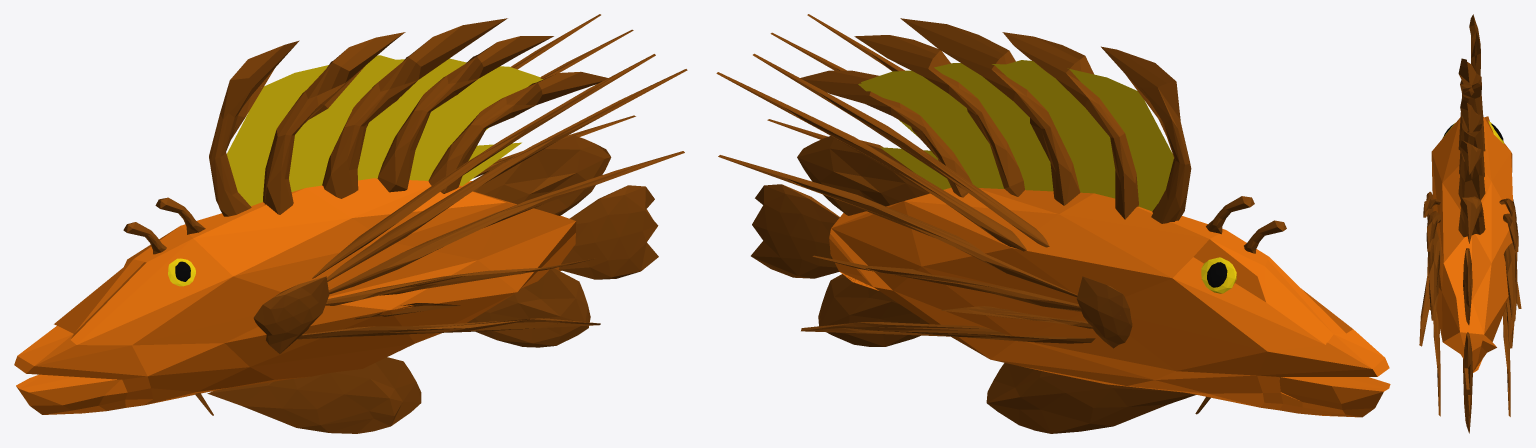
The model's file is Lionfish.fbx.
The picture shows the model from 3 angles, left to right: view 1: azimuth 30°, elevation 25°; view 2: azimuth 150°, elevation 25°; view 3: azimuth 270°, elevation 25°; orthographic projection. The views are drawn at different scales.
Parts seen in each view (by area): view 1: Icosphere, Icosphere.011, Icosphere.031, Icosphere.003, Icosphere.008, Icosphere.005, Icosphere.007, Icosphere.004, Icosphere.009, Icosphere.006, Icosphere.010, Icosphere.021 (+6 smaller); view 2: Icosphere, Icosphere.011, Icosphere.031, Icosphere.003, Icosphere.008, Icosphere.005, Icosphere.007, Icosphere.006, Icosphere.009, Icosphere.004, Icosphere.010, Icosphere.015 (+8 smaller); view 3: Icosphere, Icosphere.009, Icosphere.007, Icosphere.010, Icosphere.008, Icosphere.022, Icosphere.015, Icosphere.003, Icosphere.005, Icosphere.006, Icosphere.025, Icosphere.017 (+7 smaller).
Boxes of the visible parts, x1,y1,x2,y2 form: Icosphere: (14,178,576,414); Icosphere.011: (226,55,543,206); Icosphere.031: (207,357,421,433); Icosphere.003: (558,185,658,279); Icosphere.008: (322,18,507,198); Icosphere.005: (473,135,611,215); Icosphere.007: (263,32,405,214); Icosphere.004: (467,268,590,347); Icosphere.009: (377,36,553,192); Icosphere.006: (209,40,299,216); Icosphere.010: (428,71,607,193); Icosphere.021: (327,69,687,281); Icosphere: (829,187,1390,417); Icosphere.011: (858,60,1173,211); Icosphere.031: (986,363,1196,433); Icosphere.003: (751,184,840,278); Icosphere.008: (900,18,1080,205); Icosphere.005: (797,136,929,215); Icosphere.007: (1002,32,1138,219); Icosphere.006: (1101,46,1191,223); Icosphere.009: (854,35,1024,196); Icosphere.004: (818,274,929,346); Icosphere.010: (800,70,972,197); Icosphere.015: (718,155,1077,297); Icosphere: (1431,116,1512,372); Icosphere.009: (1458,140,1485,200); Icosphere.007: (1458,58,1485,151); Icosphere.010: (1458,196,1485,243); Icosphere.008: (1459,99,1484,176); Icosphere.022: (1428,229,1441,320); Icosphere.015: (1503,242,1517,320); Icosphere.003: (1463,332,1472,416); Icosphere.005: (1463,248,1472,324); Icosphere.006: (1469,14,1480,75); Icosphere.025: (1433,310,1440,416); Icosphere.017: (1503,306,1510,416).
Bounding box in the file's own units: 621 × 374 × 105.
